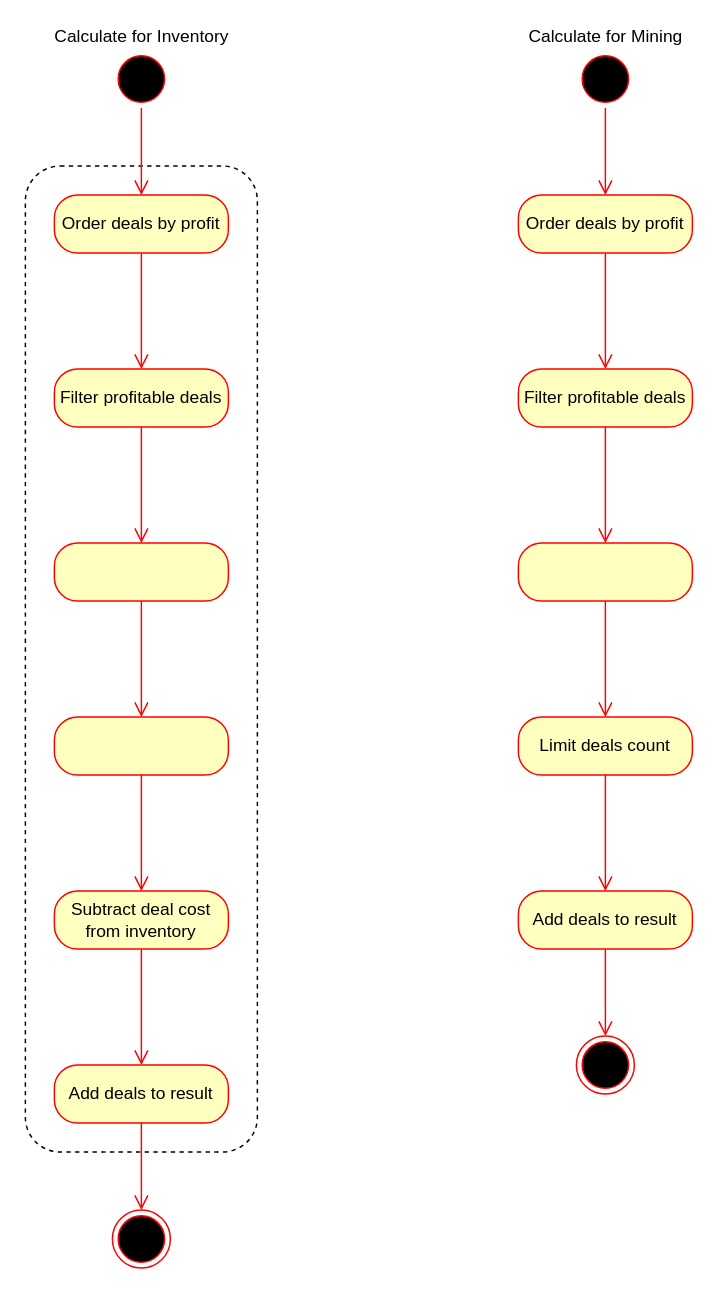
The diagram is 718 pixels wide and 1293 high, and some of its shapes have lost their labels. The shapes that lost their labels are listed below. From the top down, each one's centre as x and y in pixels, then its label:
the point at 140,571: Filter first limited deal
the point at 604,571: Filter unlimited deals
the point at 140,745: Get deal max repetitions
